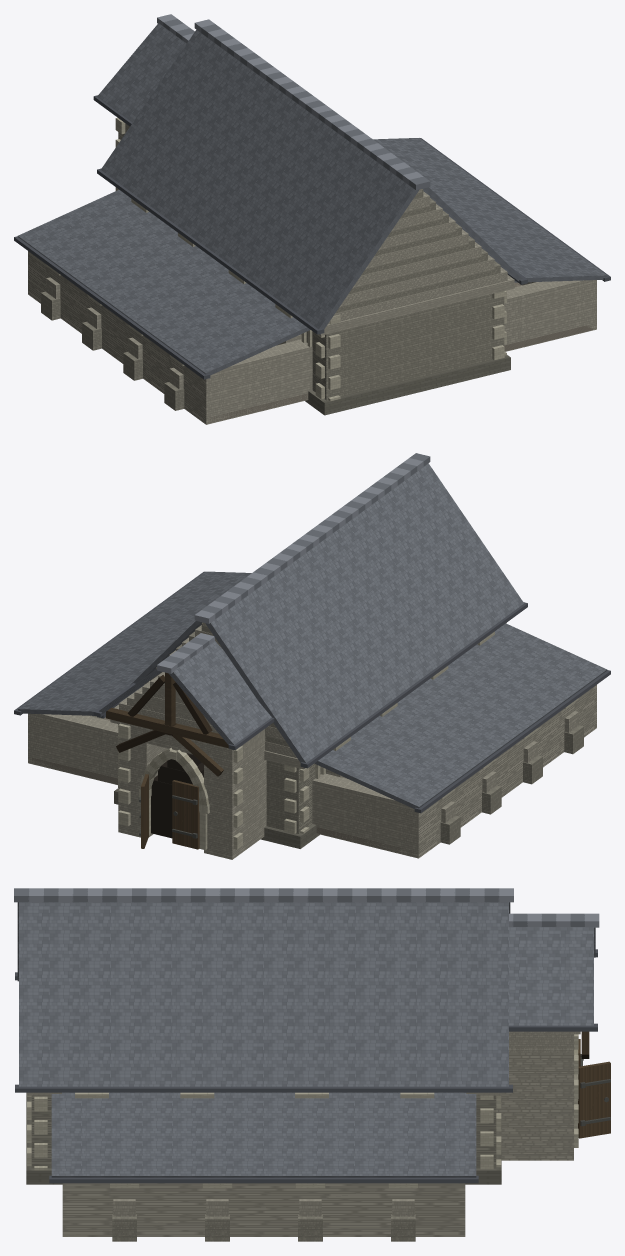
The model's file is civic-medieval-great-barn-built.glb.
3 views of the same model, one above another, from view 1: azimuth 30°, elevation 25°; view 2: azimuth 150°, elevation 25°; view 3: azimuth 270°, elevation 25° (orthographic). The views are drawn at different scales.
Bounding box in the file's own units: 34.4 × 17.18 × 38.54.
Materials: 41 (36 with a texture image).
